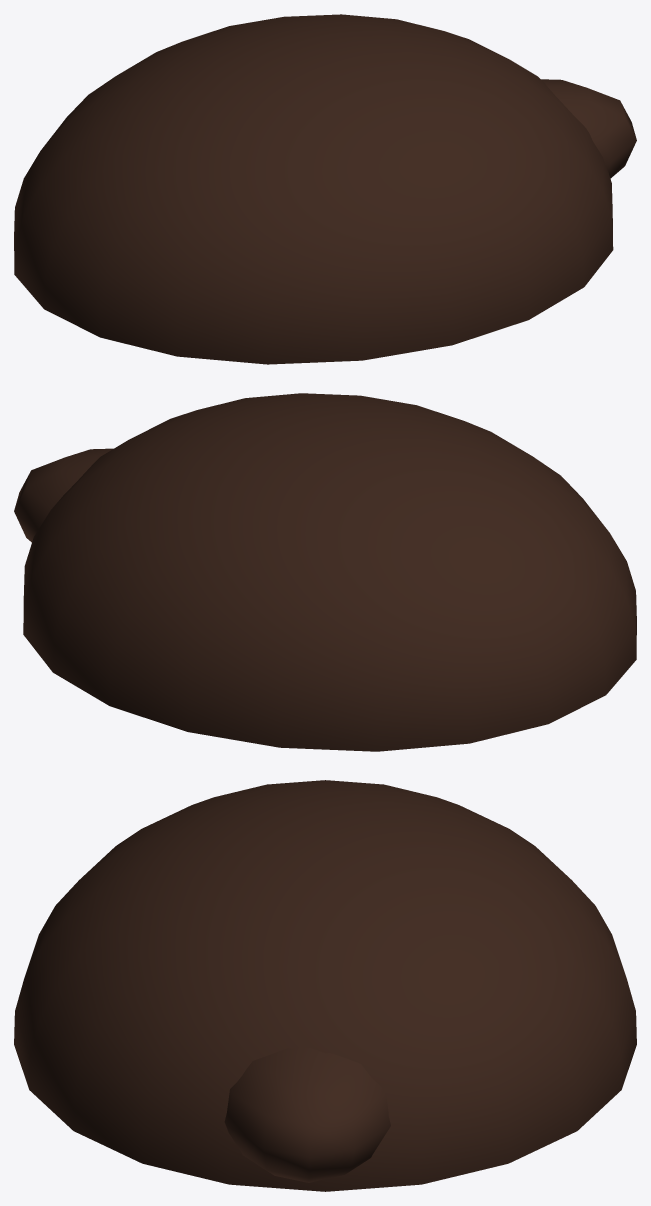
3 renders of one model, top to bottom at view 1: azimuth 30°, elevation 25°; view 2: azimuth 150°, elevation 25°; view 3: azimuth 270°, elevation 25°, orthographic. The views are drawn at different scales.
Visible parts, largest first — view 1: socket_head.attachment; view 2: socket_head.attachment; view 3: socket_head.attachment.
Boxes of the visible parts, bbox=[...] form: socket_head.attachment: bbox=[14, 14, 636, 364]; socket_head.attachment: bbox=[14, 393, 636, 751]; socket_head.attachment: bbox=[14, 780, 636, 1191].
Size of the model in its own units: 0.9148 by 0.3096 by 0.7585.
